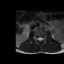CCS_normal: (39, 35, 40, 42)
LFS_normal: (42, 36, 44, 41)
LLS_normal: (41, 36, 42, 41)
RFS_normal: (36, 36, 37, 41)
RLS_normal: (37, 36, 39, 41)
